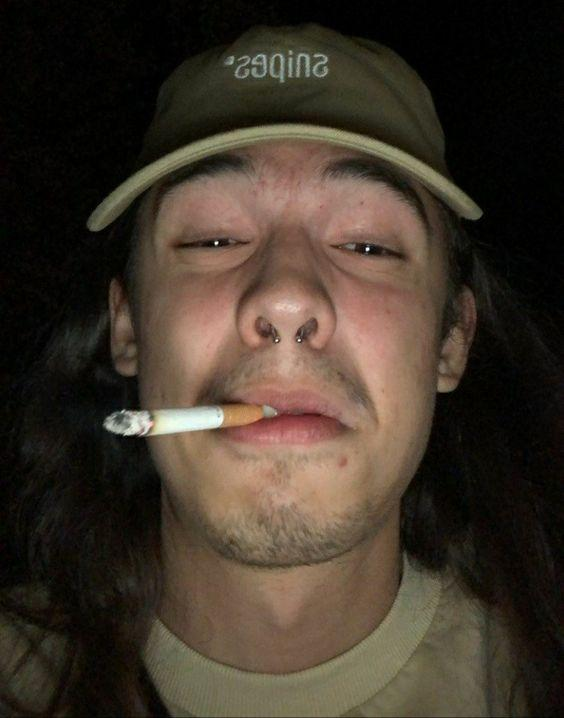cigarette: (103, 403, 264, 437)
